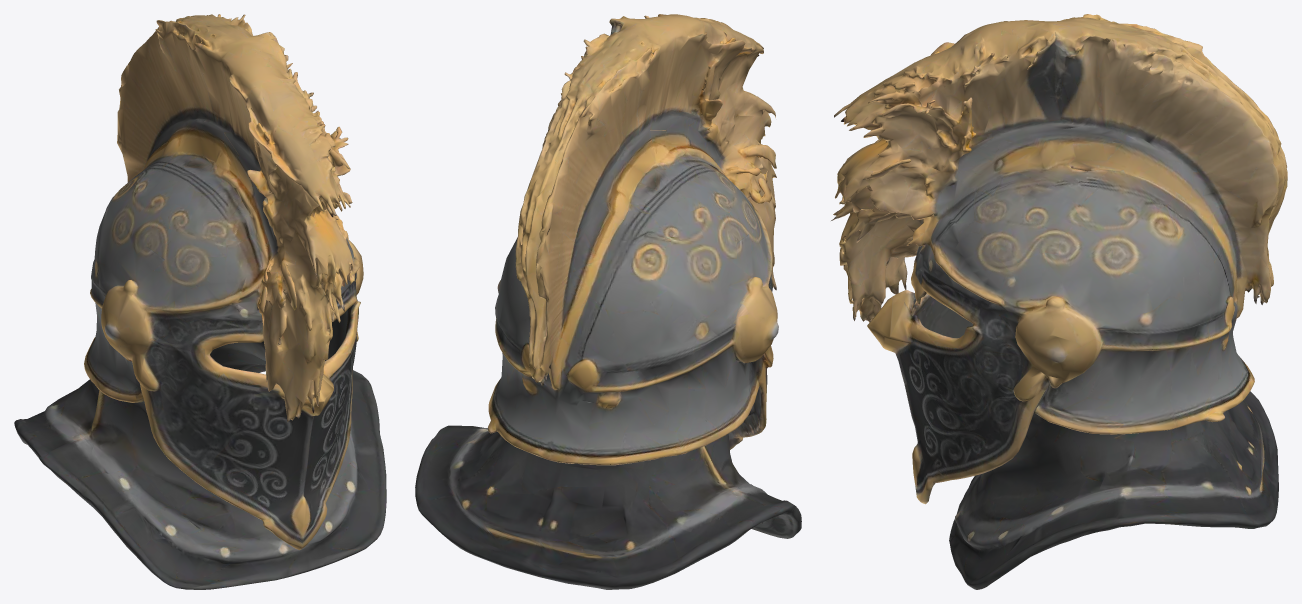
Rendered from apex-fantasia-casco.glb.
The picture shows the model from 3 angles, left to right: view 1: azimuth 30°, elevation 25°; view 2: azimuth 150°, elevation 25°; view 3: azimuth 270°, elevation 25°; orthographic projection. The views are drawn at different scales.
Bounding box in the file's own units: 1.36 × 2 × 1.58.
Materials: 1 (1 with a texture image).
